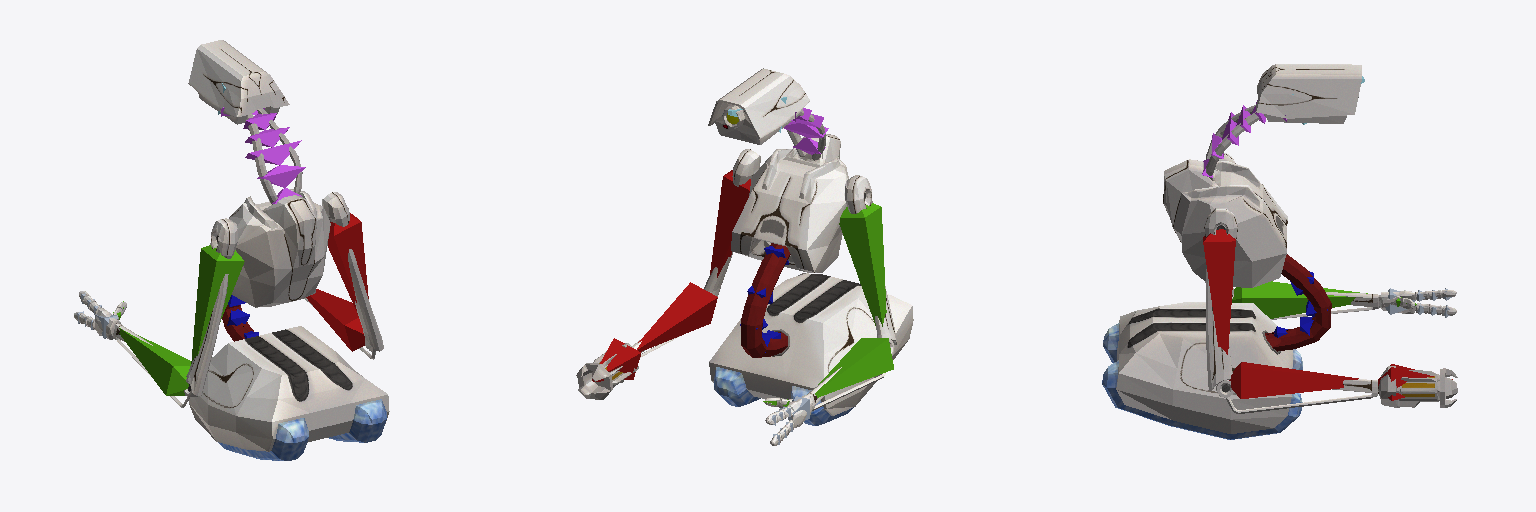
The picture shows the model from 3 angles: view 1: azimuth 30°, elevation 25°; view 2: azimuth 150°, elevation 25°; view 3: azimuth 270°, elevation 25°; orthographic projection.
Parts seen in each view (by area): view 1: lowpoly_robot01, left_upperarm, left_lowerarm, right_upperarm, right_lowerarm, neck02, neck03; view 2: lowpoly_robot01, left_upperarm, right_lowerarm, left_lowerarm, right_upperarm, gravgun; view 3: lowpoly_robot01, right_lowerarm, right_upperarm, left_lowerarm, gravgun.
Boxes of the visible parts, x1=… form: lowpoly_robot01: x1=74, y1=40, x2=389, y2=460; left_upperarm: x1=191, y1=245, x2=244, y2=363; left_lowerarm: x1=119, y1=328, x2=190, y2=395; right_upperarm: x1=328, y1=213, x2=368, y2=313; right_lowerarm: x1=306, y1=289, x2=364, y2=351; neck02: x1=257, y1=165, x2=305, y2=187; neck03: x1=245, y1=140, x2=301, y2=165; lowpoly_robot01: x1=576, y1=68, x2=913, y2=445; left_upperarm: x1=839, y1=203, x2=886, y2=326; right_lowerarm: x1=637, y1=282, x2=717, y2=351; left_lowerarm: x1=815, y1=338, x2=893, y2=397; right_upperarm: x1=710, y1=170, x2=750, y2=277; gravgun: x1=592, y1=338, x2=640, y2=381; lowpoly_robot01: x1=1102, y1=64, x2=1457, y2=439; right_lowerarm: x1=1229, y1=362, x2=1358, y2=398; right_upperarm: x1=1203, y1=229, x2=1235, y2=354; left_lowerarm: x1=1232, y1=281, x2=1367, y2=318; gravgun: x1=1378, y1=364, x2=1452, y2=400.
Size of the model in its own units: 1.22 by 1.99 by 1.73.
Materials: 9 (1 with a texture image).